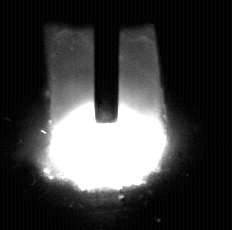arame: (94, 0, 121, 123)
poca: (48, 0, 166, 230)
